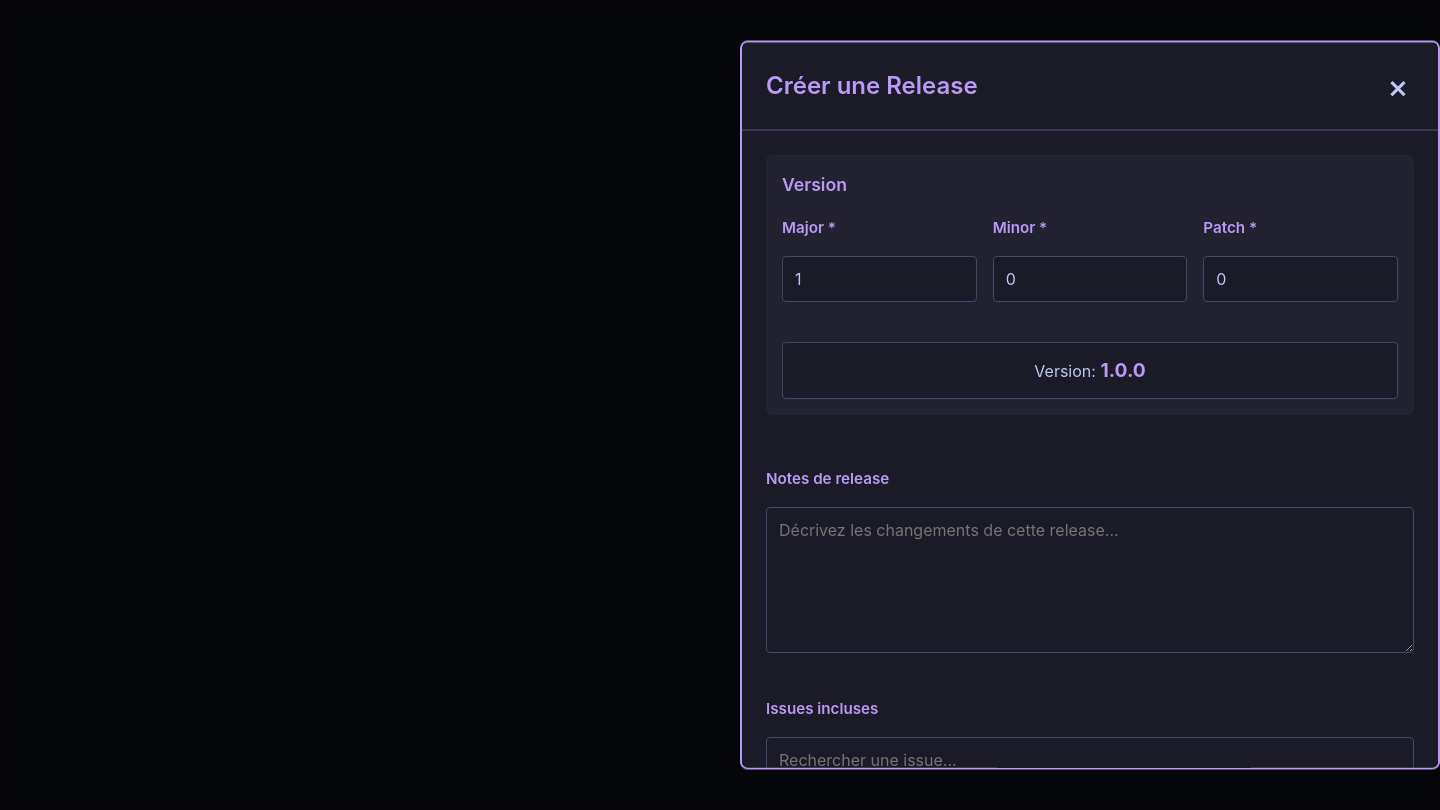
Scenario: CreateReleaseForm › devrait afficher les suggestions d'issues lors de la saisie
The width and height of the screenshot is (1440, 810).
Type "Issue" into the field with id "issueSearch" at (1090, 760), box [766,737,1414,783]
(page scrolled)
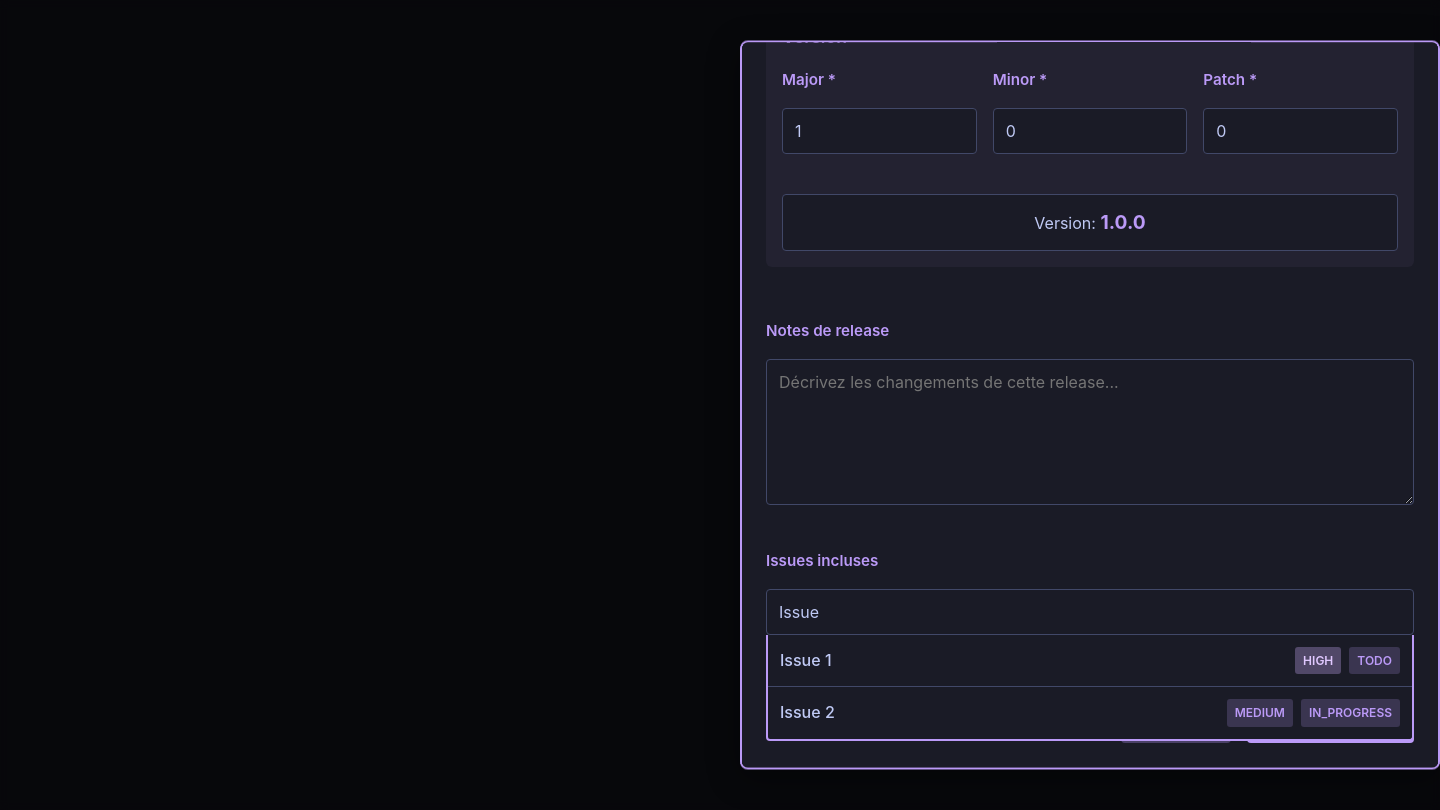
Expected: the list with class "suggestions" is shown, [766,636,1414,741]
